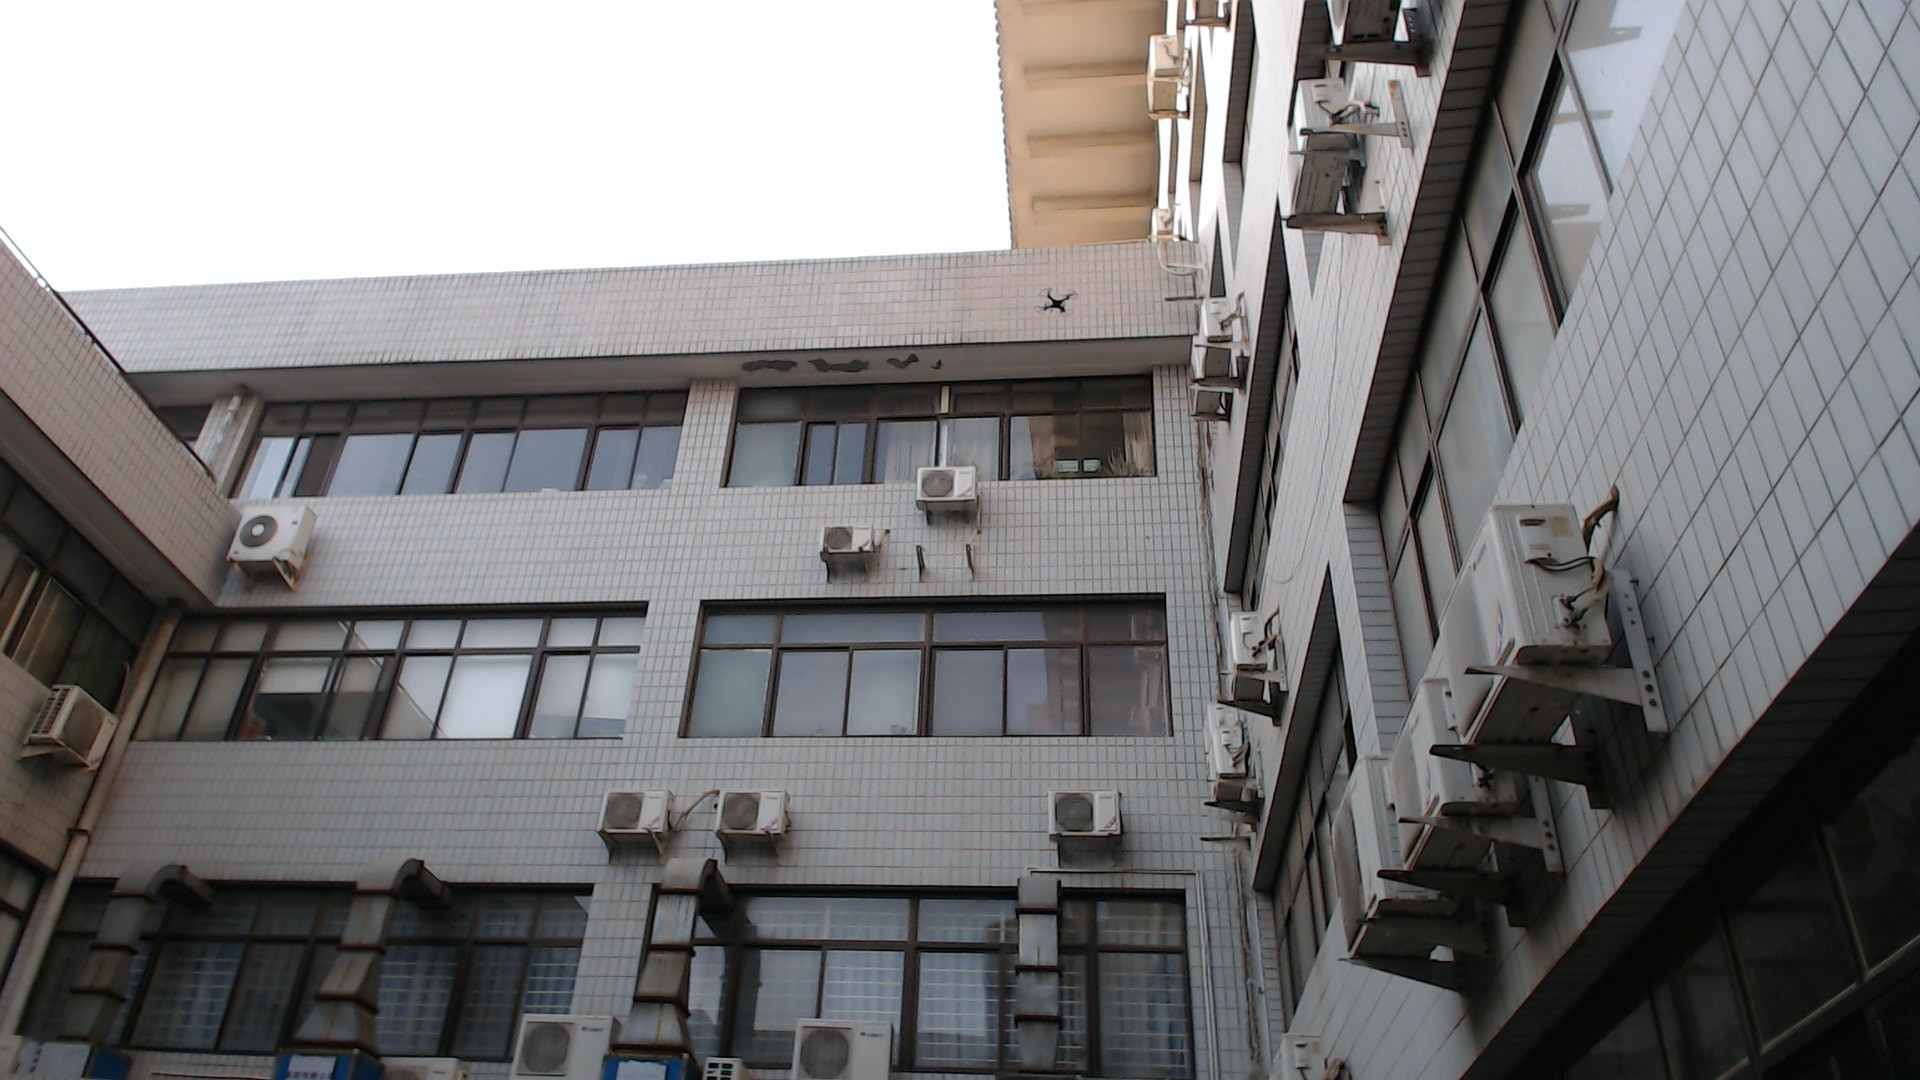drone: (1025, 280, 1093, 332)
